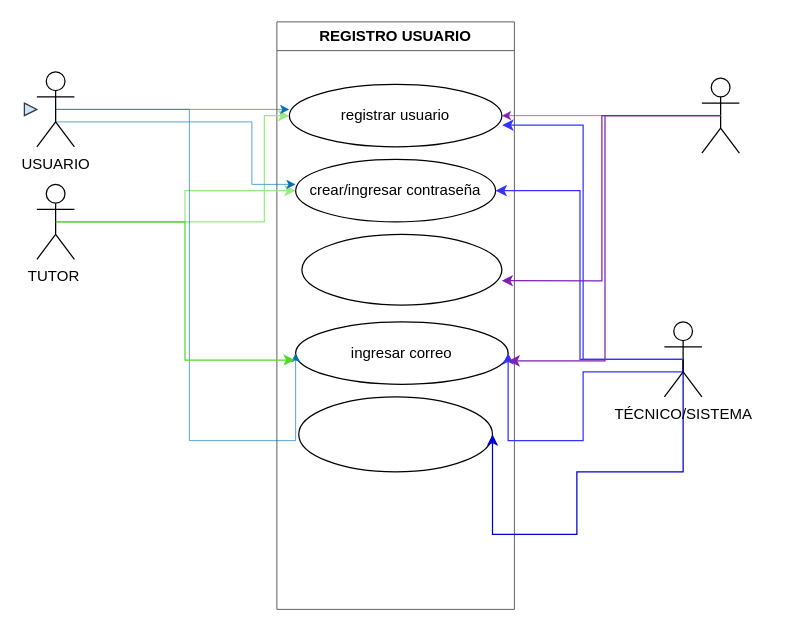
Some shapes in this 795 by 631 pixel diagram are drawn without their labels. The centre of each missing label's shape, as x and y in pixels:
crear username: point 395,434
ESPECIALISTA: point 720,115
verificar especialidad: point 401,269
